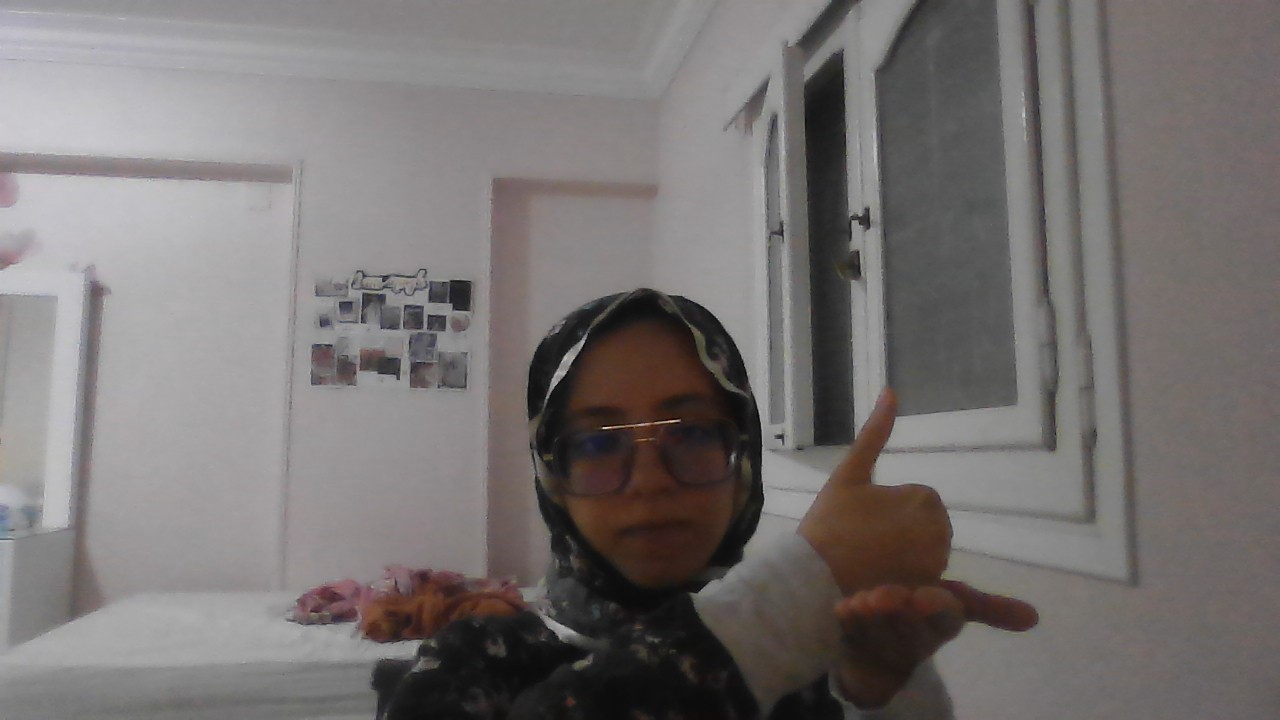help: (797, 377, 1046, 664)
